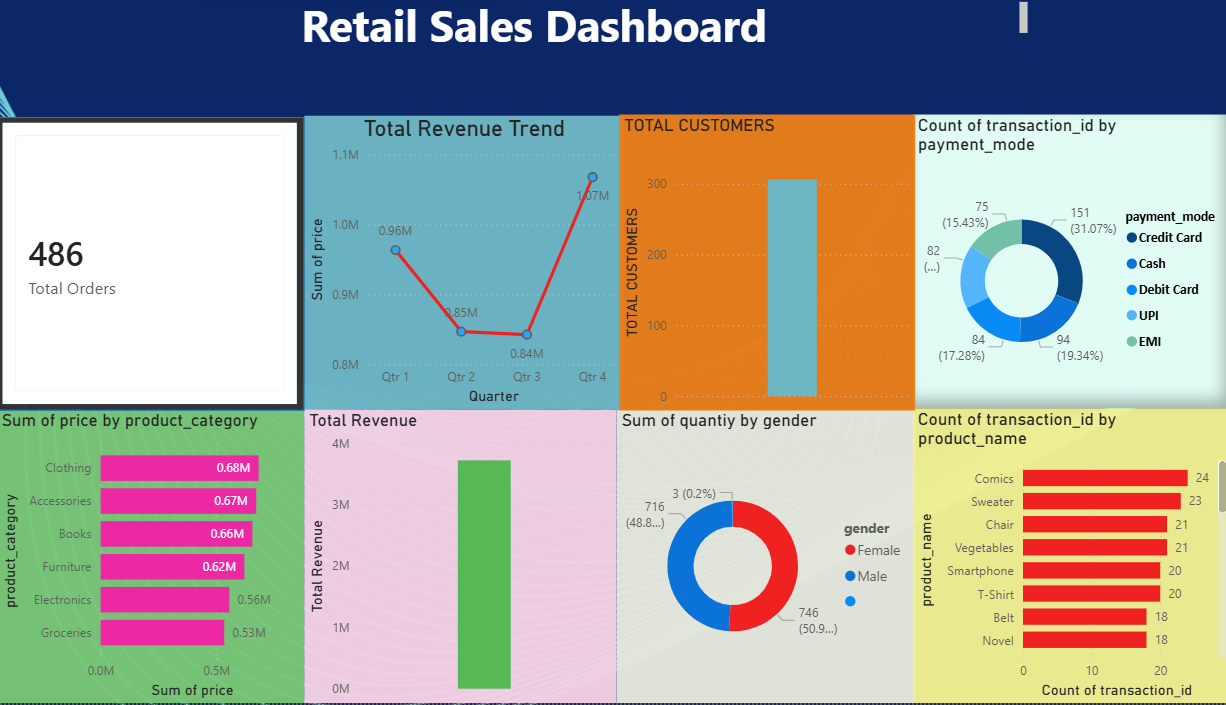

Layout of this report page (visuals, bound fields, positions):
{"tool":"powerbi","page":{"name":"Page 1","canvas":[1280,720],"ordinal":0},"visuals":[{"type":"clusteredBarChart","fields":{"Category":["sales.product_category"],"Y":["Sum(sales.price)"]},"box":[15.1,439.1,300.5,281.3],"z":2000},{"type":"lineChart","title":"Total Revenue Trend","fields":{"Category":["sales.purchase_date.Variation.Date Hierarchy.Year","sales.purchase_date.Variation.Date Hierarchy.Quarter","sales.purchase_date.Variation.Date Hierarchy.Month","sales.purchase_date.Variation.Date Hierarchy.Day"],"Y":["Sum(sales.price)"]},"box":[326.5,107.6,313,287.4],"z":3000},{"type":"donutChart","fields":{"Category":["sales.payment_mode"],"Y":["CountNonNull(sales.transaction_id)"]},"box":[968.5,107.6,311.8,287.4],"z":4000},{"type":"donutChart","fields":{"Category":["sales.gender"],"Y":["Sum(sales.quantiy)"]},"box":[659.1,432.9,292.3,281.3],"z":5000},{"type":"clusteredBarChart","fields":{"Category":["sales.product_name"],"Y":["CountNonNull(sales.transaction_id)"]},"box":[968.5,432.9,311.8,281.3],"z":6000},{"type":"textbox","box":[117.4,26.9,968.5,57.5],"z":8000},{"type":"clusteredColumnChart","fields":{"Y":["sales.TOTAL CUSTOMERS"]},"box":[659.1,108.8,289.8,287.4],"z":8001},{"type":"clusteredColumnChart","fields":{"Y":["sales.Total Revenue"]},"box":[333.8,432.9,305.7,287.4],"z":8002},{"type":"clusteredColumnChart","fields":{"Y":["sales.Total Orders"]},"box":[14.7,107.6,300.8,287.4],"z":8003}]}

Visuals, with their boxes in screenshot pixels (x1, y1, x2, y2), scaled from the page's 1280x720 canvas onto the 1226x705 screenshot:
clusteredBarChart - sales.product_category x Sum(sales.price): [left=14, top=430, right=302, bottom=704]
"Total Revenue Trend" lineChart: [left=313, top=105, right=613, bottom=387]
donutChart - sales.payment_mode x CountNonNull(sales.transaction_id): [left=928, top=105, right=1225, bottom=387]
donutChart - sales.gender x Sum(sales.quantiy): [left=631, top=424, right=911, bottom=699]
clusteredBarChart - sales.product_name x CountNonNull(sales.transaction_id): [left=928, top=424, right=1225, bottom=699]
textbox: [left=112, top=26, right=1040, bottom=83]
clusteredColumnChart - sales.TOTAL CUSTOMERS: [left=631, top=107, right=909, bottom=388]
clusteredColumnChart - sales.Total Revenue: [left=320, top=424, right=613, bottom=704]
clusteredColumnChart - sales.Total Orders: [left=14, top=105, right=302, bottom=387]
